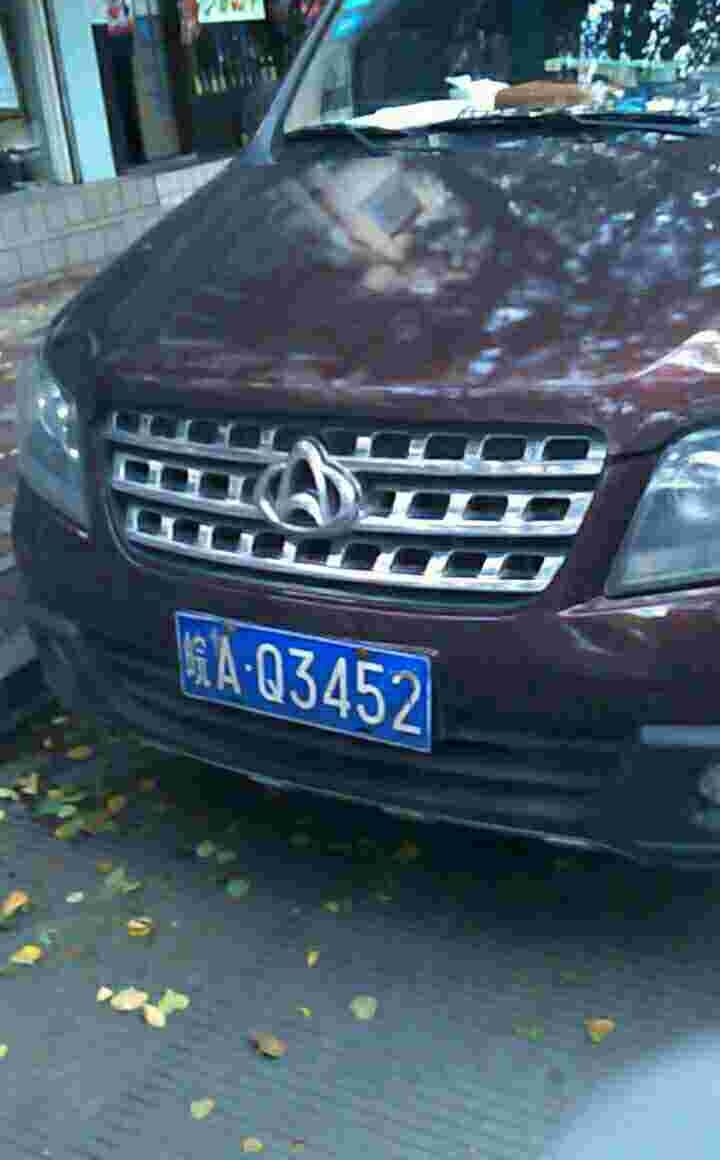license_plate: (167, 606, 438, 751)
